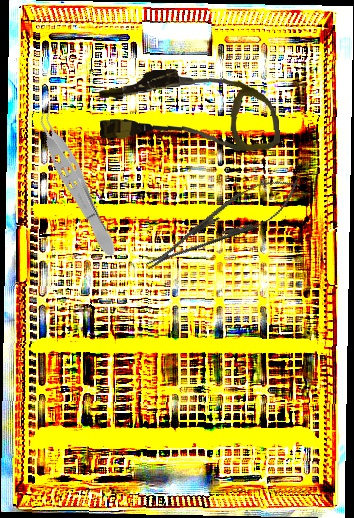Cannula: (96, 61, 281, 162)
Needle Holder: (136, 163, 309, 285)
Tissue Forceps: (27, 99, 125, 262)
